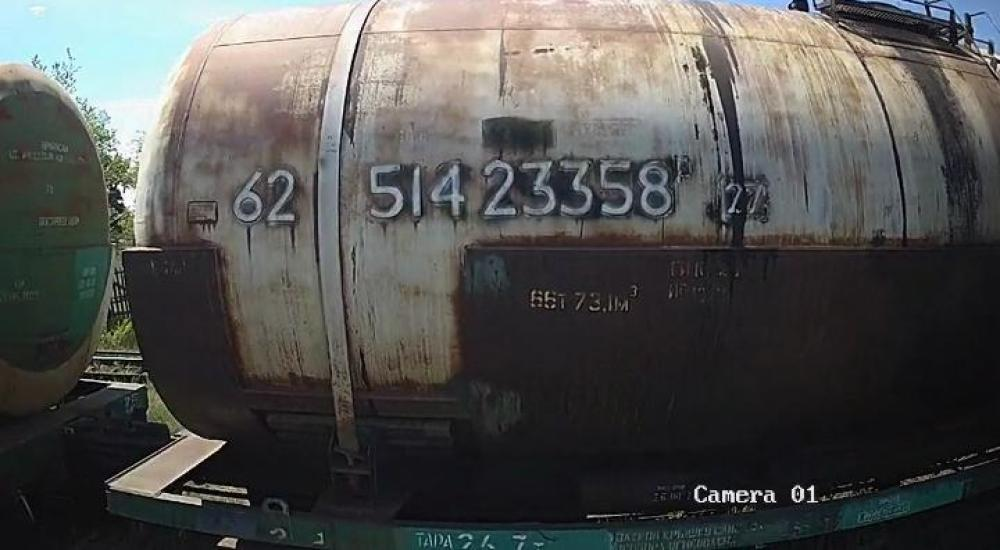Wagon-number: (365, 158, 679, 222)
